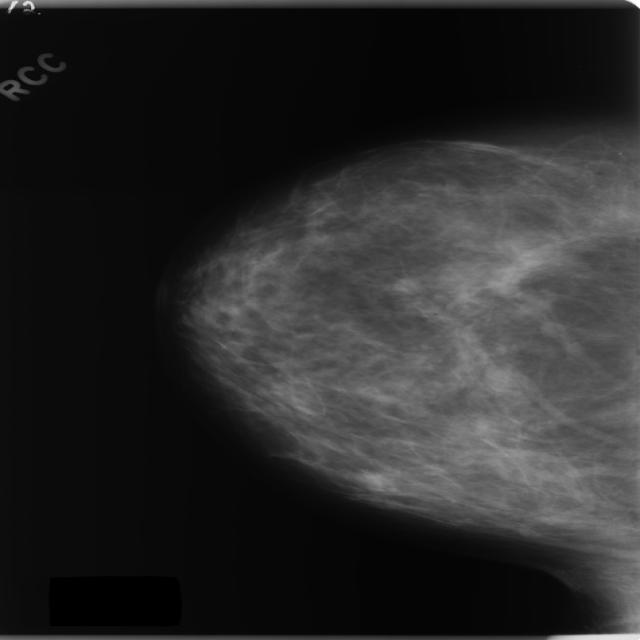tumour: (484, 364, 532, 395)
